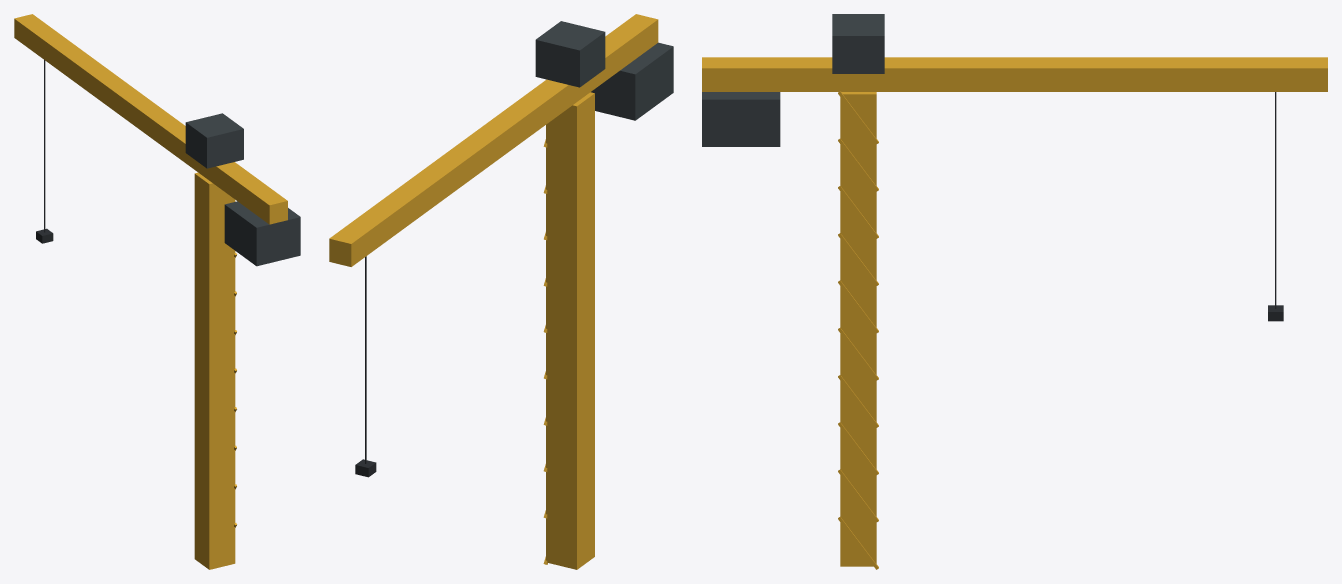
The model's file is crane.obj.
3 views of the same model, side by side, from view 1: azimuth 30°, elevation 25°; view 2: azimuth 150°, elevation 25°; view 3: azimuth 270°, elevation 25° (orthographic). The views are drawn at different scales.
Visible parts, largest first — view 1: part1, part12, part13, part14; view 2: part1, part12, part13, part14; view 3: part12, part1, part13, part14.
Boxes of the visible parts, x1,y1,x2,y2 form: part1: [194, 172, 235, 569]; part12: [14, 14, 287, 224]; part13: [224, 201, 300, 266]; part14: [185, 113, 243, 168]; part1: [546, 92, 594, 569]; part12: [329, 14, 658, 266]; part13: [591, 42, 673, 120]; part14: [535, 21, 605, 87]; part12: [702, 57, 1327, 91]; part1: [840, 92, 876, 566]; part13: [702, 92, 780, 146]; part14: [832, 14, 884, 73].
Bounding box in the file's own units: 2.4 × 22.71 × 24.
